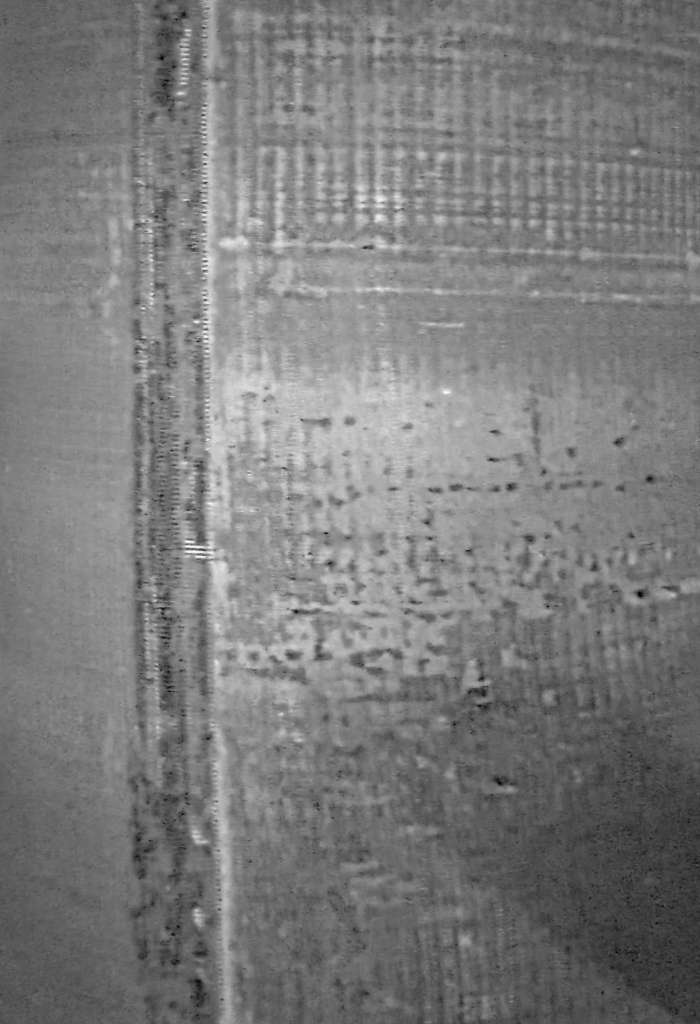splice: (109, 1, 240, 1021)
